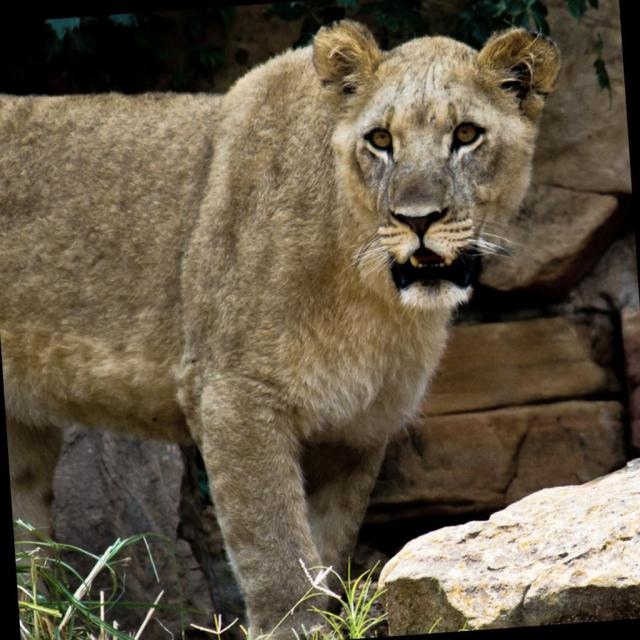Lion: (0, 2, 600, 639)
